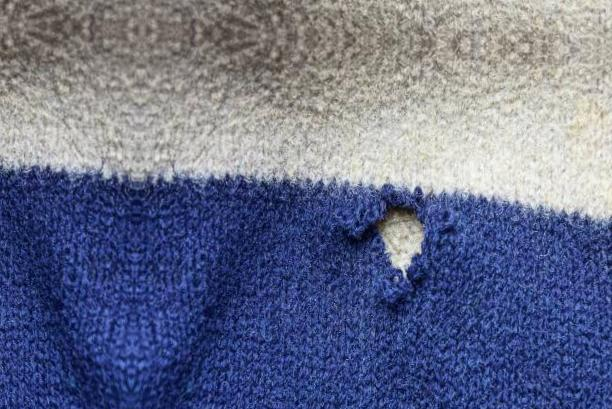hole: (358, 197, 439, 278)
